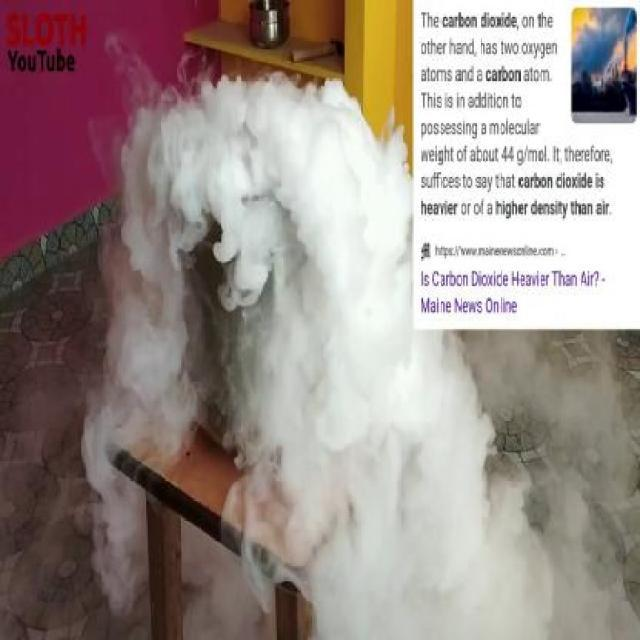smoke: (106, 78, 412, 640)
